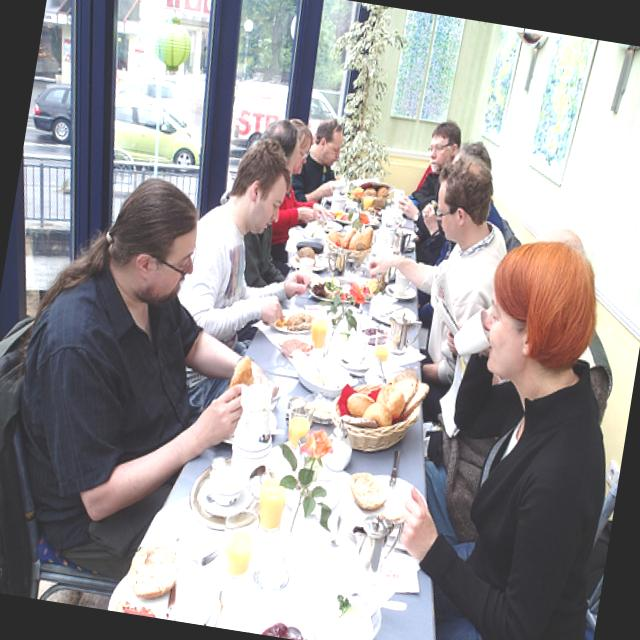Vehicle: (222, 76, 344, 170), (228, 78, 342, 164), (107, 92, 209, 174), (114, 72, 196, 122), (28, 78, 80, 144)
